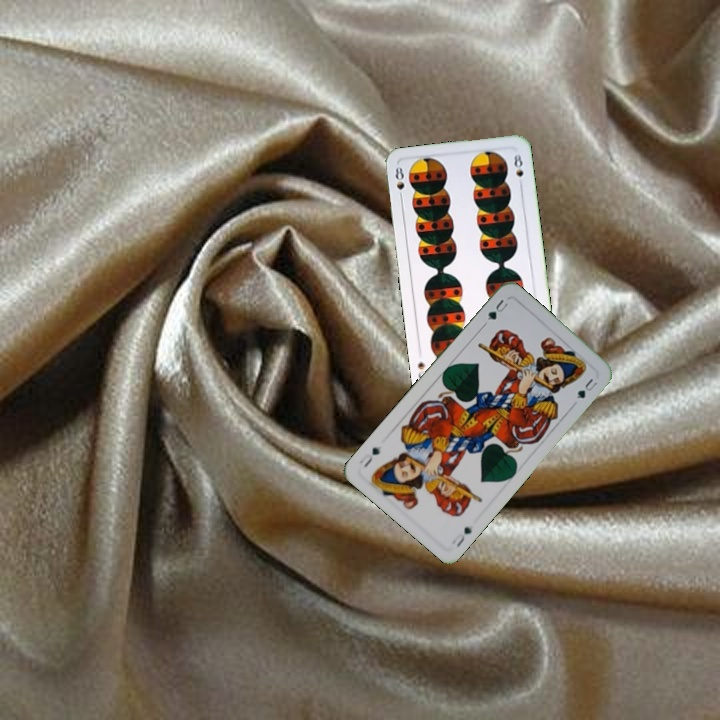GU: (483, 295, 512, 323), (448, 523, 474, 550)
S8: (391, 163, 407, 203)
